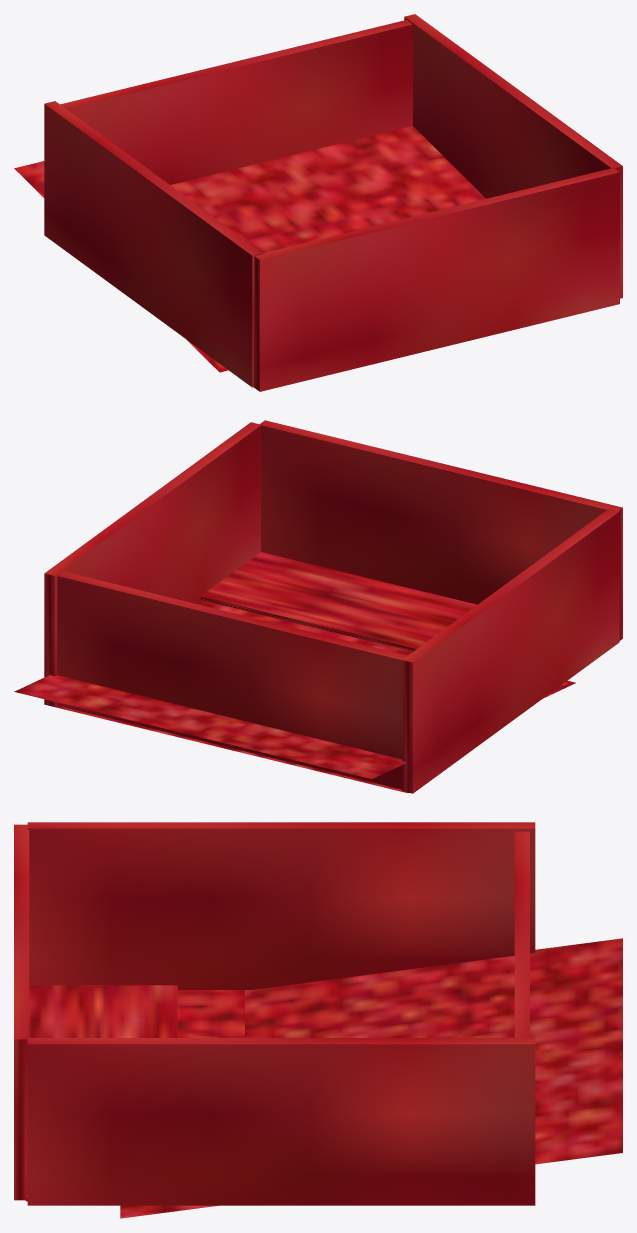
The model's file is Stage.fbx.
The picture shows the model from 3 angles, top to bottom: view 1: azimuth 30°, elevation 25°; view 2: azimuth 150°, elevation 25°; view 3: azimuth 270°, elevation 25°; orthographic projection. The views are drawn at different scales.
Visible parts, largest first — view 1: Cube.008, Cube.009, Cube.004, Plane.001, Cube.007; view 2: Cube.008, Cube.009, Cube.004, Cube.007, Cube.005, Plane.001, Plane; view 3: Cube.007, Cube.004, Plane.001, Cube.005, Cube.008, Cube.009, Plane.
Boxes of the visible parts, x1=… form: Cube.008: x1=254, y1=168, x2=619, y2=391; Cube.009: x1=60, y1=20, x2=412, y2=184; Cube.004: x1=44, y1=101, x2=262, y2=387; Plane.001: x1=14, y1=126, x2=485, y2=372; Cube.007: x1=404, y1=14, x2=622, y2=298; Cube.008: x1=260, y1=420, x2=622, y2=640; Cube.009: x1=57, y1=571, x2=408, y2=792; Cube.004: x1=402, y1=509, x2=619, y2=793; Cube.007: x1=44, y1=422, x2=261, y2=706; Cube.005: x1=200, y1=552, x2=477, y2=651; Plane.001: x1=14, y1=675, x2=575, y2=778; Plane: x1=55, y1=600, x2=412, y2=792; Cube.007: x1=27, y1=1038, x2=535, y2=1205; Cube.004: x1=27, y1=822, x2=535, y2=989; Plane.001: x1=120, y1=938, x2=622, y2=1218; Cube.005: x1=25, y1=985, x2=177, y2=1201; Cube.008: x1=14, y1=824, x2=29, y2=1200; Cube.009: x1=514, y1=831, x2=529, y2=1037; Plane: x1=177, y1=990, x2=244, y2=1037.
Bounding box in the file's own units: 2398 × 2060 × 775.
Materials: 3 (3 with a texture image).
